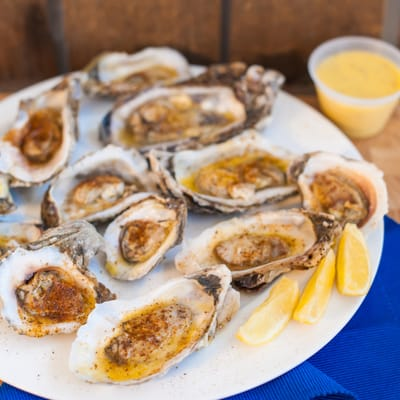pizza: (306, 35, 400, 140)
taco: (335, 223, 371, 297)
